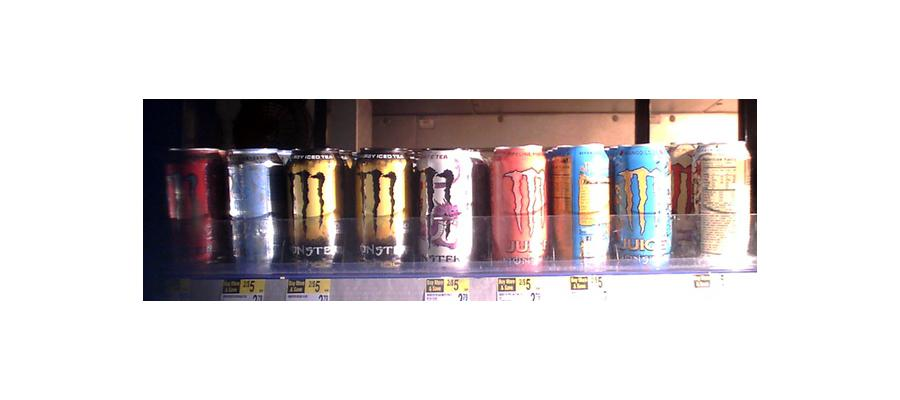bottle: (162, 142, 230, 269), (414, 146, 480, 271), (549, 142, 608, 268), (612, 143, 672, 266), (694, 135, 752, 260), (351, 148, 411, 264), (488, 145, 545, 267), (284, 148, 340, 269), (232, 145, 282, 274)
